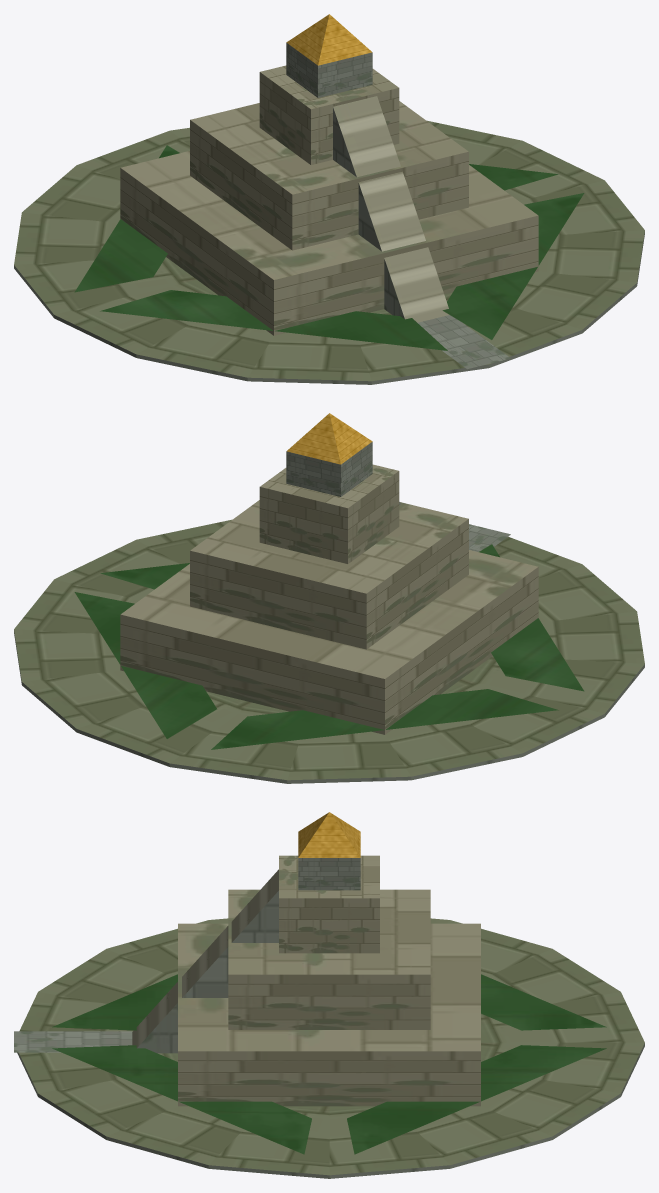
File: pyramid_large_lod2.glb
The picture shows the model from 3 angles, top to bottom: view 1: azimuth 30°, elevation 25°; view 2: azimuth 150°, elevation 25°; view 3: azimuth 270°, elevation 25°; orthographic projection.
Parts seen in each view (by area): view 1: pyramid_large_lod2; view 2: pyramid_large_lod2; view 3: pyramid_large_lod2.
Part boxes in pixels (x1,y1,x2,y2): pyramid_large_lod2: (14,14,644,384); pyramid_large_lod2: (14,413,644,783); pyramid_large_lod2: (14,812,644,1178).
Size of the model in its own units: 1.89 by 0.779 by 1.9.
1 material, 1 textured.
